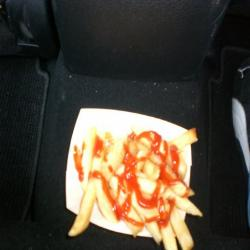fries: (62, 109, 207, 242)
ketchup: (103, 141, 153, 204)
